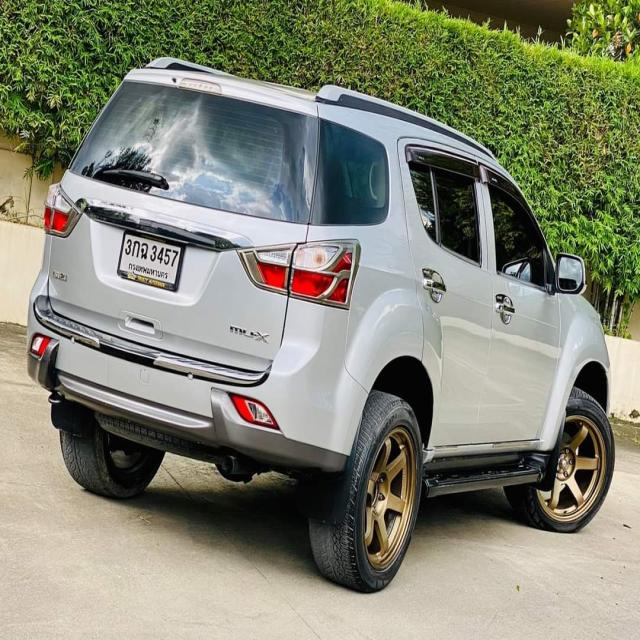license_plate: (116, 227, 185, 294)
